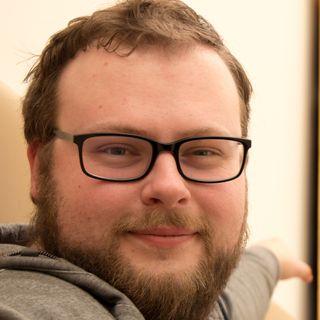eye: (95, 141, 142, 163), (184, 143, 230, 165)
